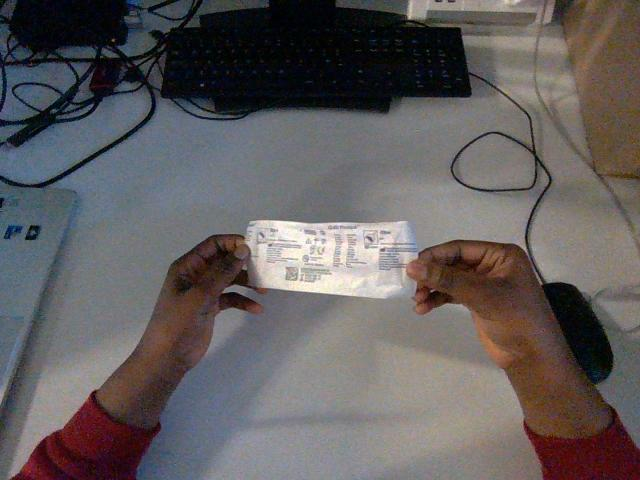syringe: (245, 220, 417, 297)
